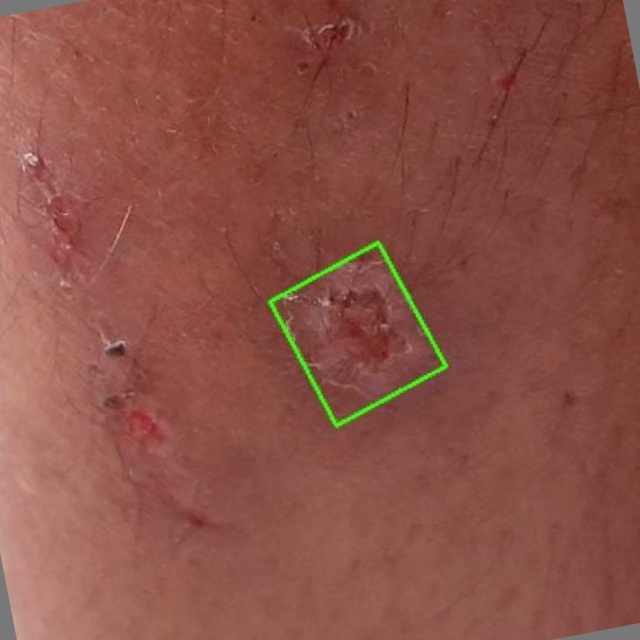Eczema: (270, 242, 446, 425)
